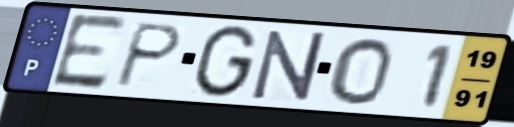1: (422, 43, 456, 110)
E: (47, 11, 131, 92)
G: (190, 23, 261, 100)
N: (249, 29, 329, 103)
O: (327, 35, 396, 107)
P: (110, 20, 186, 90)
